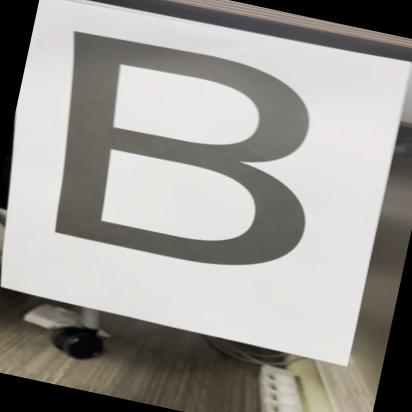seat: (6, 13, 343, 298)
